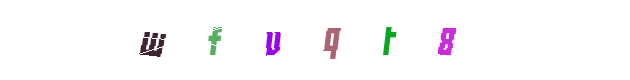8: (348, 0, 428, 80)
F: (195, 0, 275, 80)
Q: (275, 0, 355, 80)
T: (329, 0, 409, 80)
V: (267, 0, 347, 80)
W: (112, 0, 192, 80)
